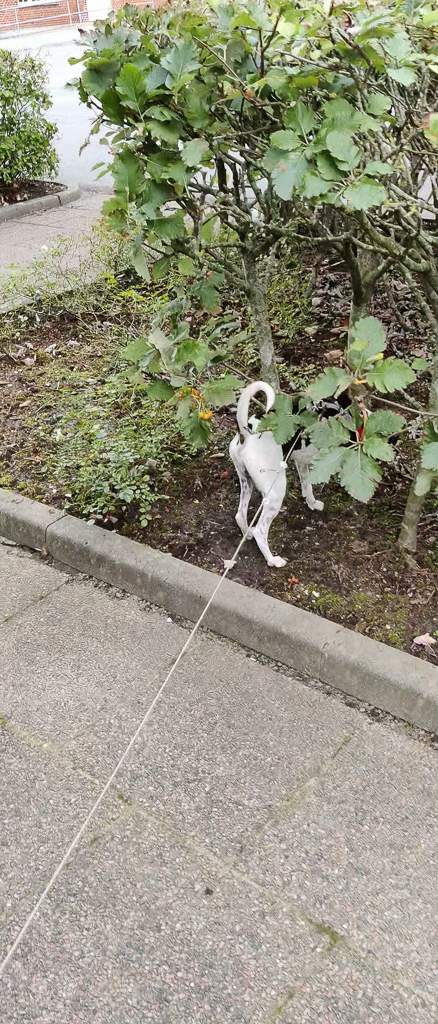Dog: (215, 365, 406, 578)
